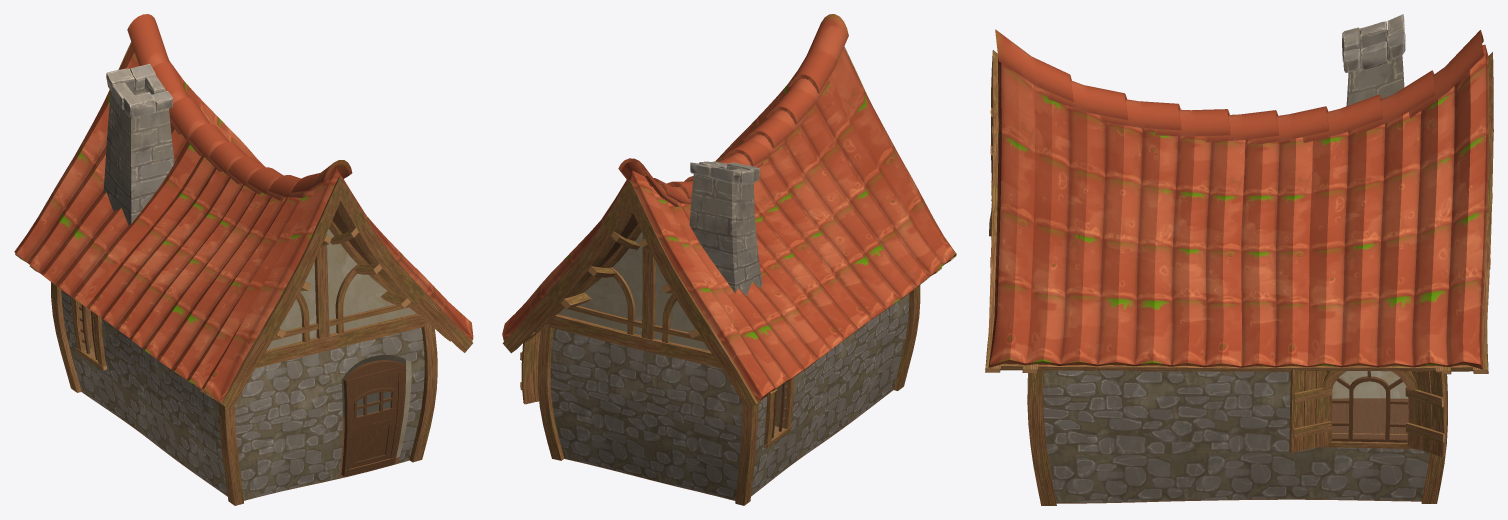
The picture shows the model from 3 angles, left to right: view 1: azimuth 30°, elevation 25°; view 2: azimuth 150°, elevation 25°; view 3: azimuth 270°, elevation 25°; orthographic projection. The views are drawn at different scales.
Parts seen in each view (by area): view 1: H06; view 2: H06; view 3: H06.
Boxes of the visible parts, x1,y1,x2,y2 form: H06: (14, 14, 473, 505); H06: (502, 14, 956, 505); H06: (985, 14, 1493, 505).
Bounding box in the file's own units: 6.03 × 7.25 × 8.02.
Materials: 27 (24 with a texture image).
